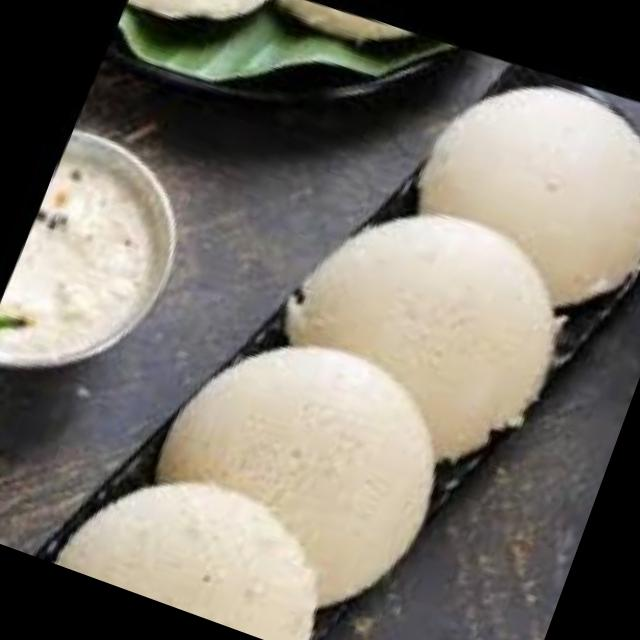idli: (122, 298, 474, 640), (244, 165, 591, 498), (386, 47, 640, 336), (53, 434, 359, 640), (267, 0, 413, 55), (121, 0, 276, 46)
